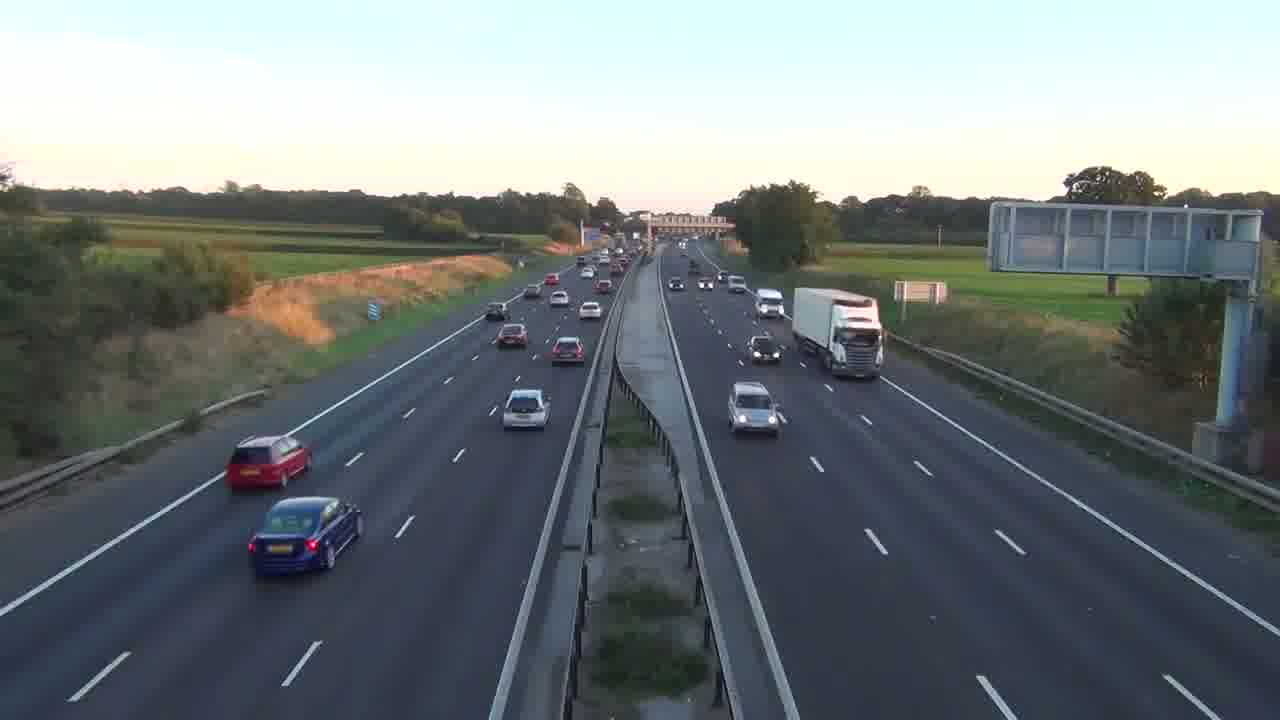car: (246, 495, 365, 577), (226, 433, 313, 492), (727, 380, 788, 438), (502, 387, 550, 431), (748, 333, 783, 366), (550, 337, 586, 366), (494, 322, 529, 348)
truck: (791, 286, 885, 380)
